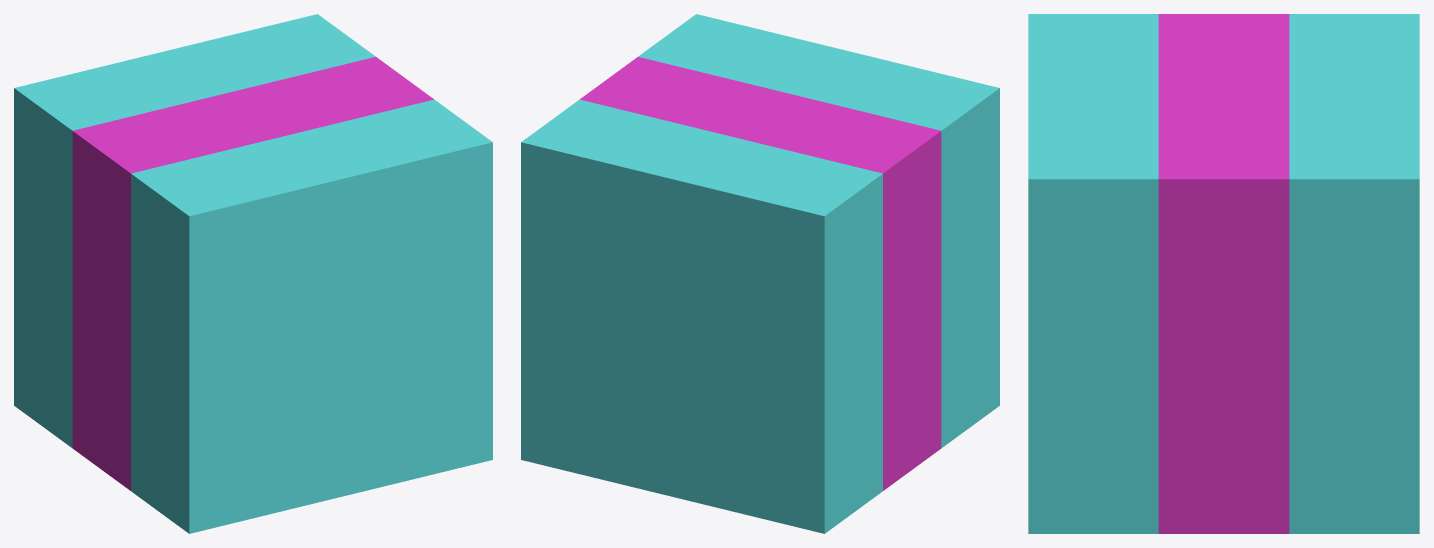
The model's file is boxanim.glb.
3 views of the same model, side by side, from view 1: azimuth 30°, elevation 25°; view 2: azimuth 150°, elevation 25°; view 3: azimuth 270°, elevation 25° (orthographic). The views are drawn at different scales.
Visible parts, largest first — view 1: sidebits, midbit; view 2: sidebits, midbit; view 3: sidebits, midbit.
Boxes of the visible parts, box(x1,y1,x2,y2) form: sidebits: box(14, 14, 492, 533); midbit: box(72, 57, 433, 490); sidebits: box(521, 14, 999, 533); midbit: box(580, 57, 941, 490); sidebits: box(1028, 14, 1419, 533); midbit: box(1158, 14, 1289, 533).
Size of the model in its own units: 2 by 2 by 2.
